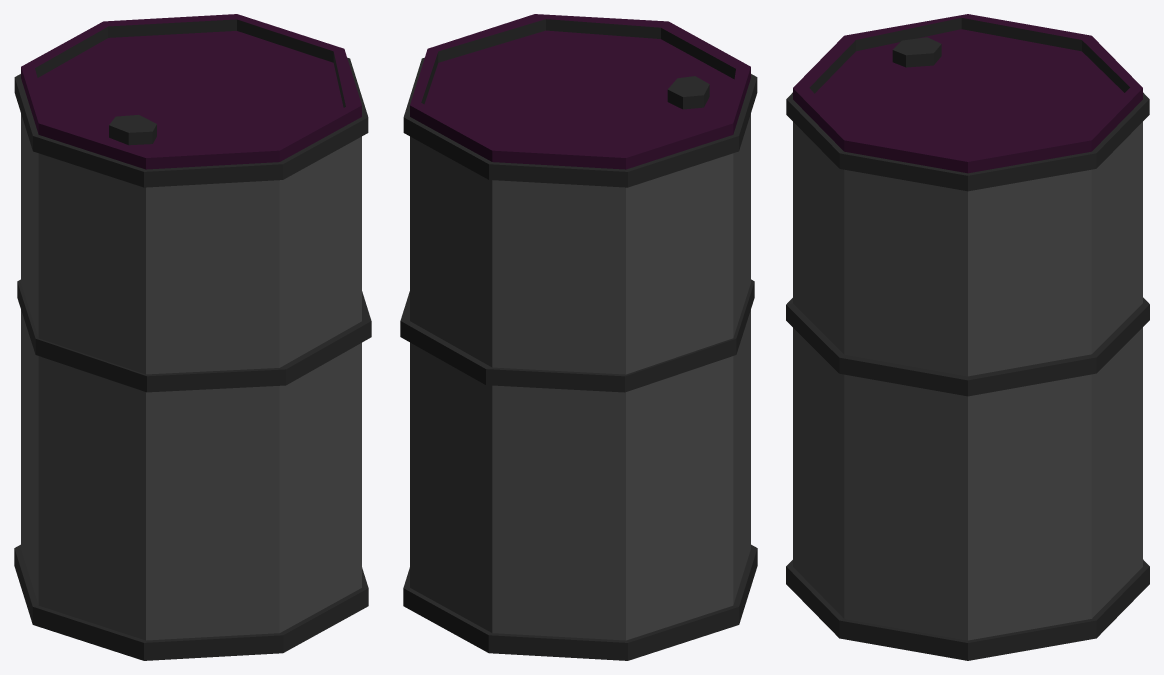
File: Tanque2.fbx
3 renders of one model, left to right at view 1: azimuth 30°, elevation 25°; view 2: azimuth 150°, elevation 25°; view 3: azimuth 270°, elevation 25°, orthographic.
Parts seen in each view (by area): view 1: tanque.001; view 2: tanque.001; view 3: tanque.001.
Part boxes in pixels (box(x1,y1,x2,y2)): tanque.001: box(14, 14, 371, 660); tanque.001: box(400, 14, 757, 660); tanque.001: box(786, 14, 1149, 660).
Bounding box in the file's own units: 210 × 313 × 208.
